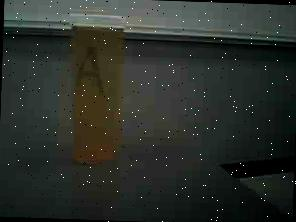Bottle A: (54, 5, 144, 176)
